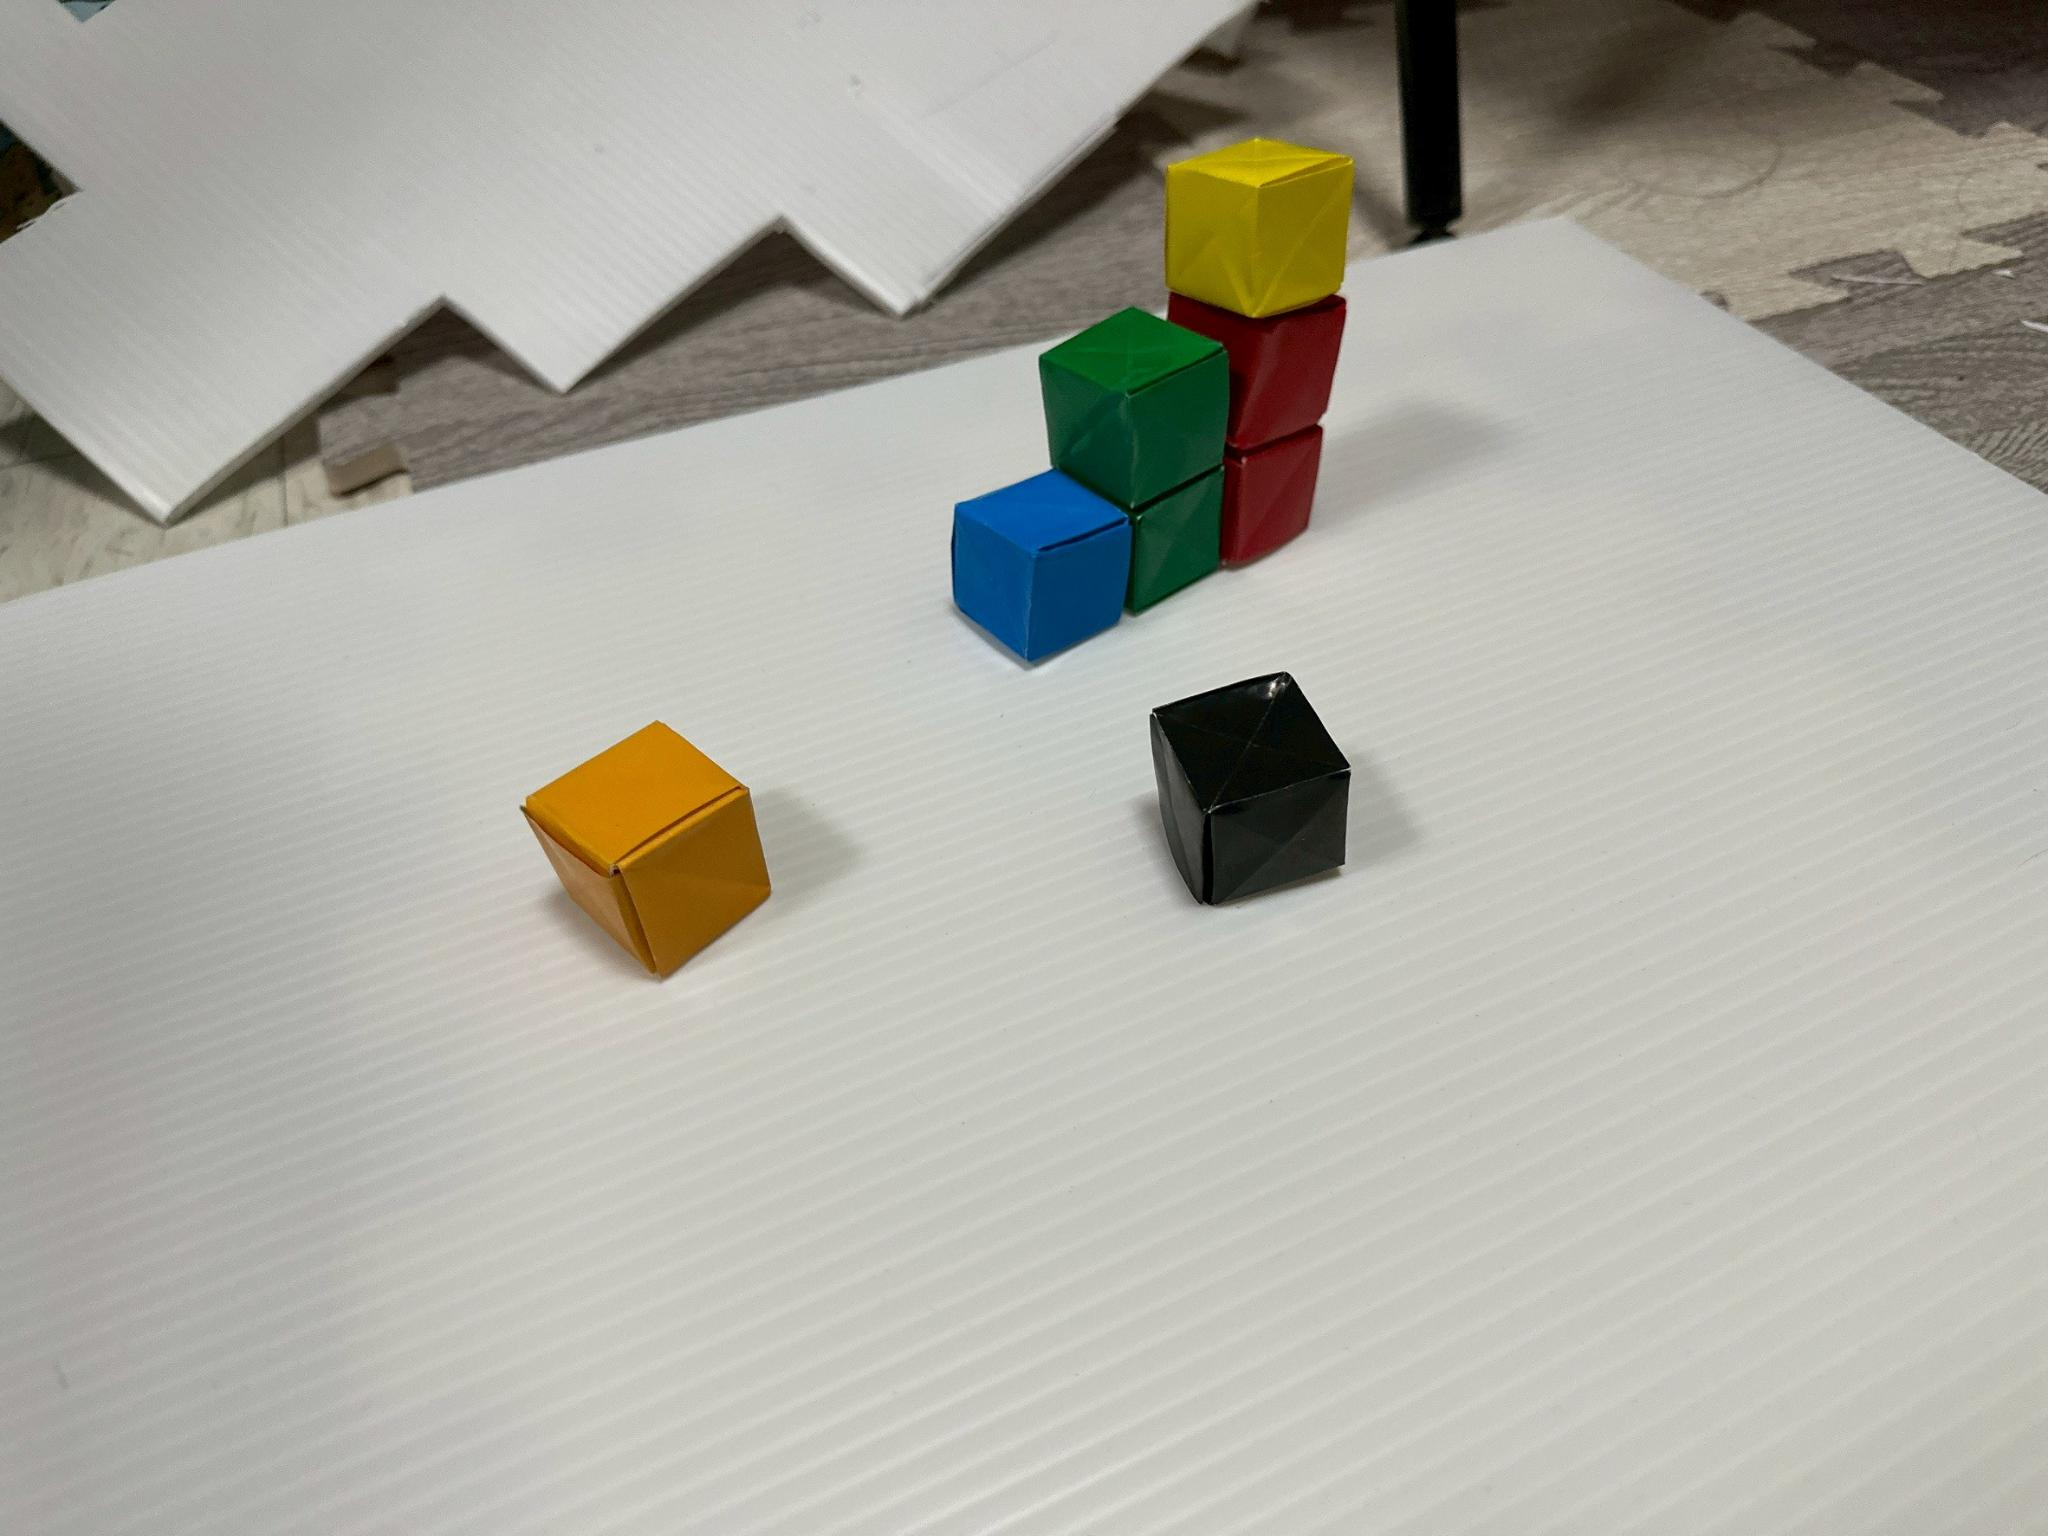cube: (522, 723, 769, 976), (1150, 673, 1348, 904), (1040, 308, 1229, 510), (951, 471, 1132, 662), (1166, 139, 1355, 318), (1168, 290, 1345, 450), (1126, 465, 1222, 613), (1221, 424, 1322, 565)
